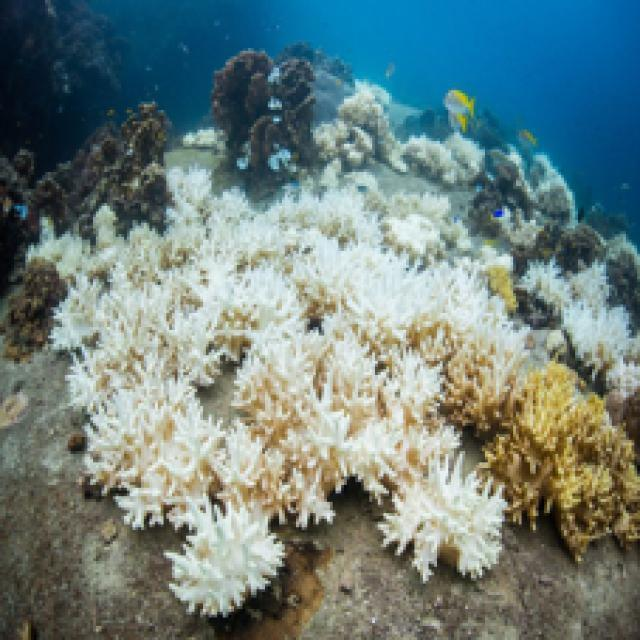Bleached: (87, 392, 215, 525), (67, 294, 217, 407), (391, 471, 508, 582), (313, 243, 429, 352), (272, 409, 459, 473), (174, 511, 282, 616), (232, 329, 329, 423), (150, 231, 244, 328), (406, 251, 499, 341), (199, 423, 281, 519), (564, 311, 640, 398), (317, 334, 388, 421), (337, 79, 403, 171), (526, 262, 613, 331), (300, 185, 379, 255), (239, 262, 309, 338), (476, 319, 563, 374), (404, 134, 484, 187), (382, 353, 441, 423), (281, 474, 347, 536), (93, 228, 154, 291), (46, 283, 100, 352), (382, 215, 464, 258), (250, 197, 301, 262), (165, 164, 213, 231), (311, 121, 369, 169), (376, 192, 454, 224), (32, 232, 90, 275), (212, 191, 257, 246), (86, 208, 118, 261), (499, 217, 543, 249), (355, 468, 387, 508), (183, 129, 233, 150), (479, 246, 517, 273), (294, 256, 317, 289), (477, 297, 506, 319)
Healthy: (500, 373, 640, 473), (551, 452, 640, 552), (482, 434, 563, 526), (447, 348, 515, 445)
